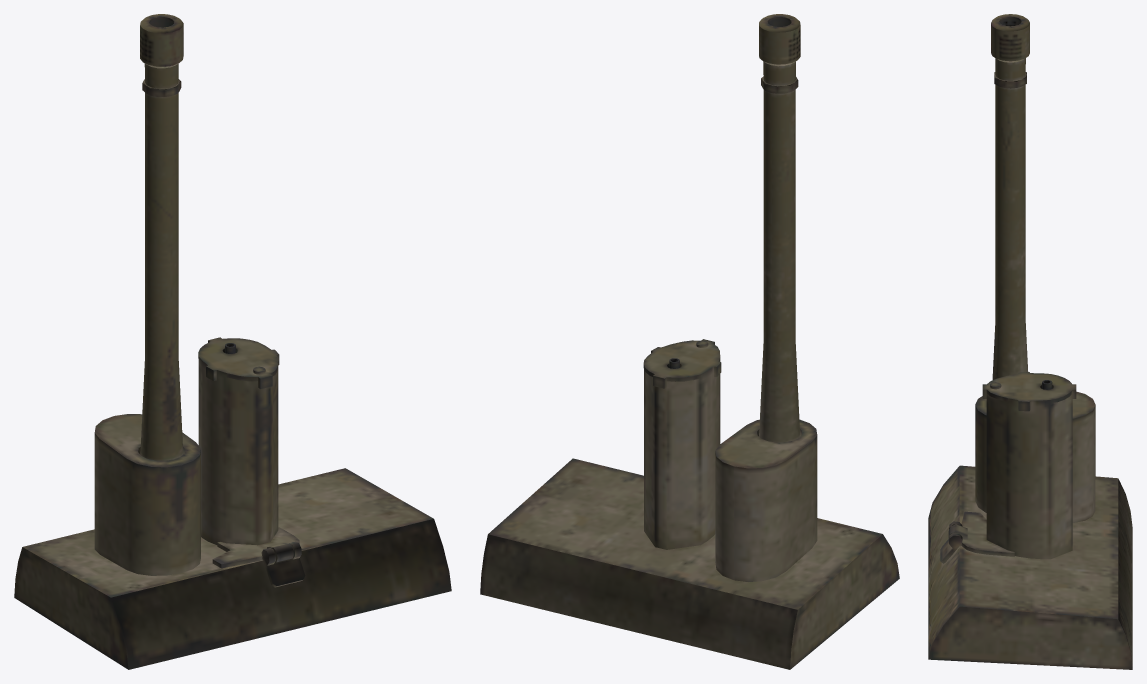
Rendered from Gun_02.glb.
The picture shows the model from 3 angles, left to right: view 1: azimuth 30°, elevation 25°; view 2: azimuth 150°, elevation 25°; view 3: azimuth 270°, elevation 25°; orthographic projection. The views are drawn at different scales.
Parts seen in each view (by area): view 1: set_0_group_0; view 2: set_0_group_0; view 3: set_0_group_0.
Boxes of the visible parts, left/top/right/bottom form: set_0_group_0: left=14, top=14, right=451, bottom=669; set_0_group_0: left=480, top=14, right=899, bottom=669; set_0_group_0: left=928, top=14, right=1132, bottom=669.
Size of the model in its own units: 0.7148 by 1.28 by 0.4383.
Materials: 1 (1 with a texture image).
